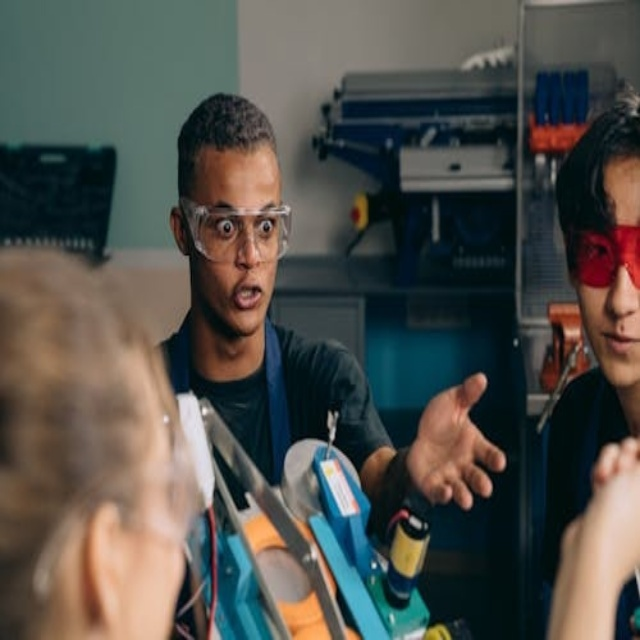Gafas: (20, 377, 214, 607), (175, 188, 301, 265), (558, 209, 639, 290)
Sin_guantes: (396, 369, 506, 513)
Sin_mascara: (589, 321, 640, 373), (223, 275, 268, 327)
